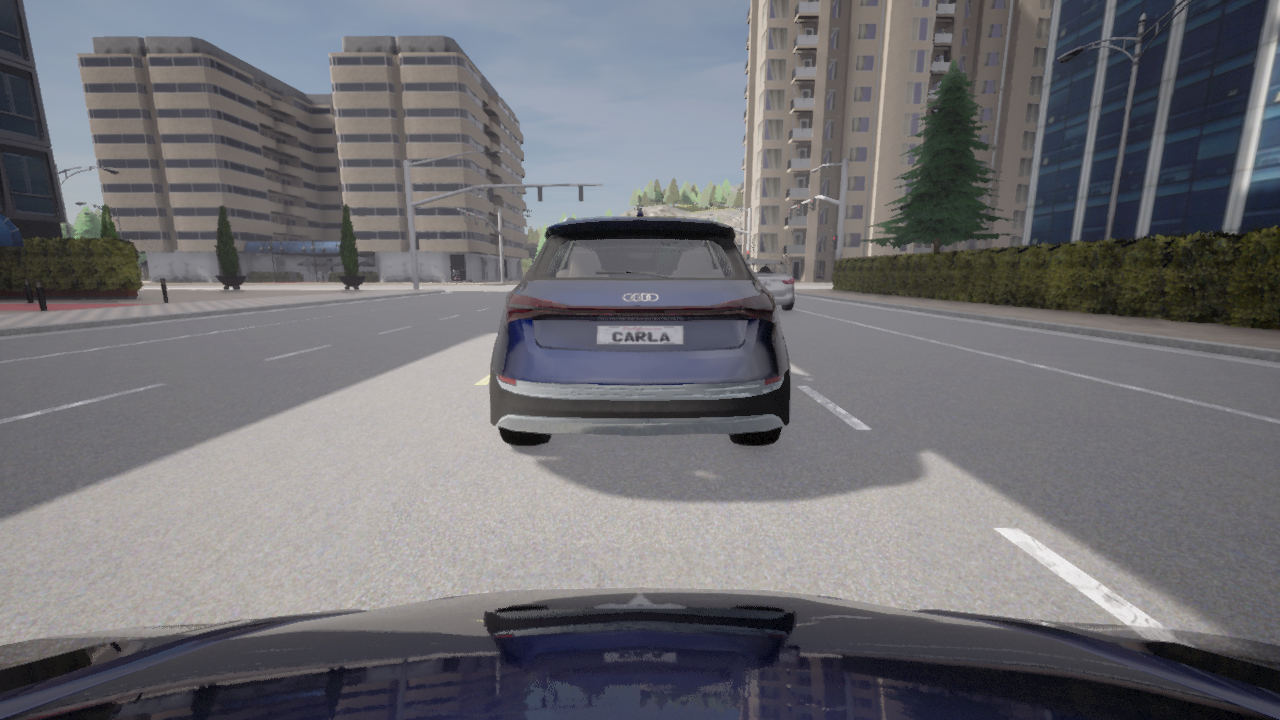cyclist: (0, 588, 1279, 719), (490, 208, 789, 445), (745, 259, 794, 310)
pedestrian: (451, 266, 458, 284), (454, 274, 458, 285)
